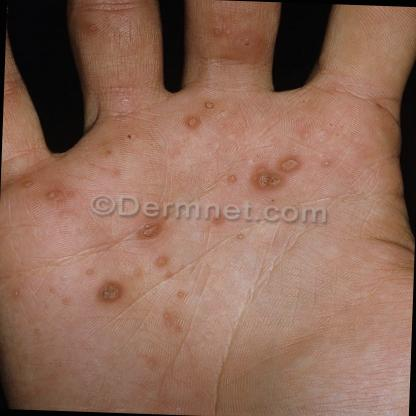Warts: (237, 135, 318, 200), (90, 274, 142, 312)
